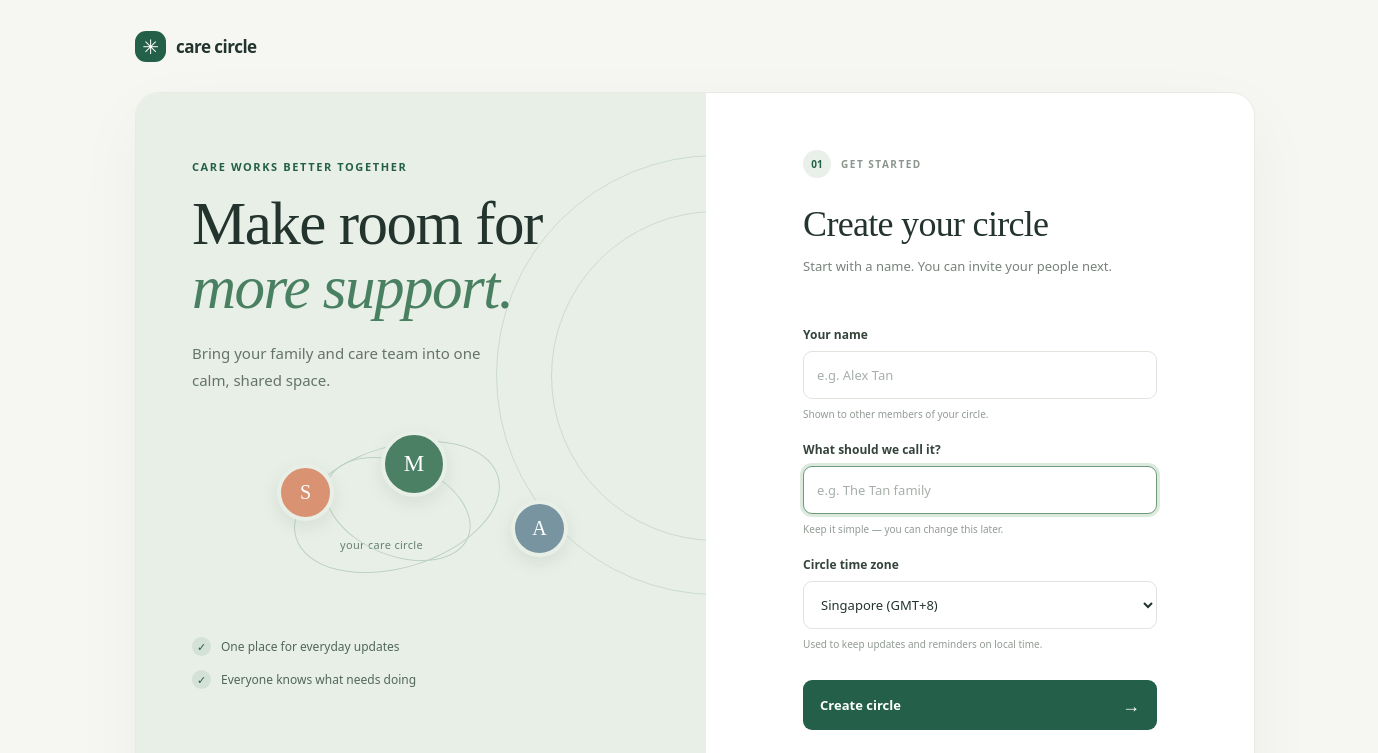
Test: CreateCirclePage › creates a circle and navigates to it
The image size is (1378, 753).
Type "Alex Tan" into the field labelled "Your name" at (980, 375), box [803,351,1157,399]
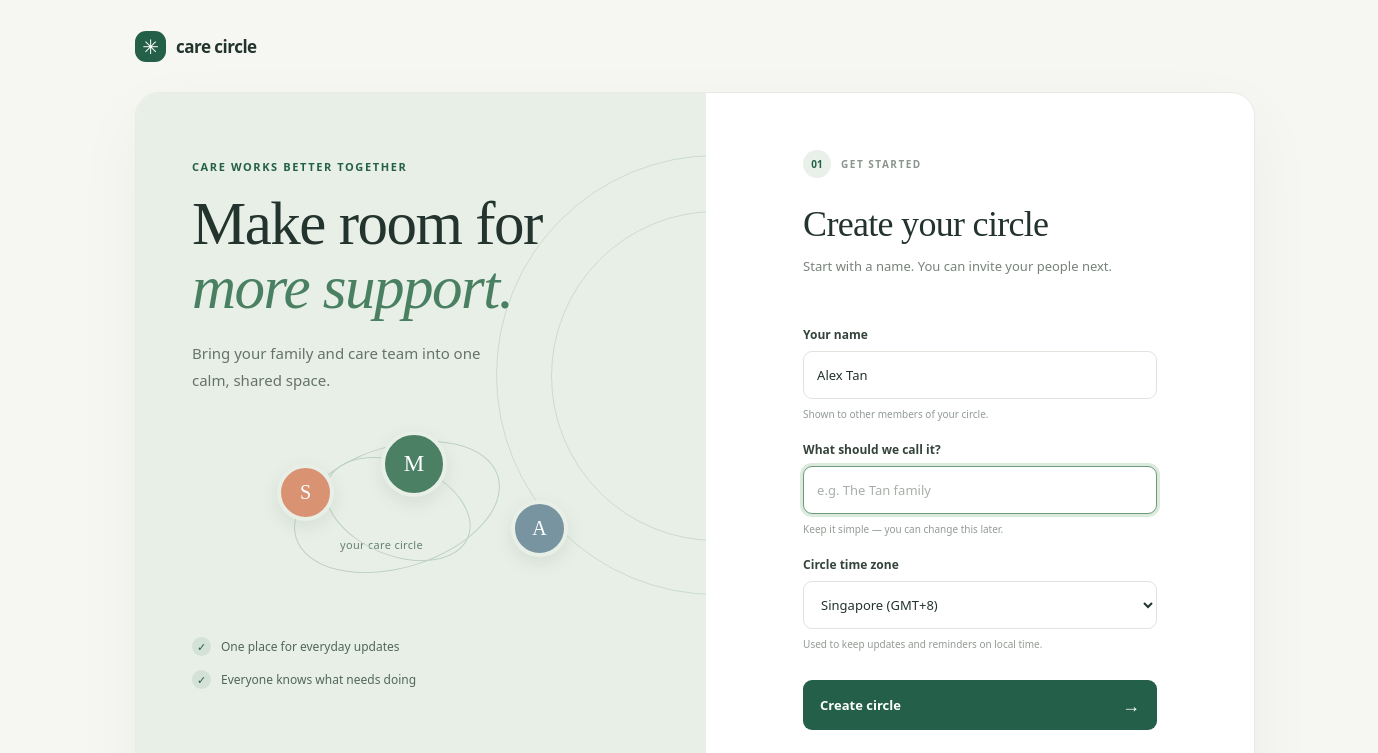
Type "The Tan family" into the field labelled "What should we call it?" at (980, 490), box [803,466,1157,514]
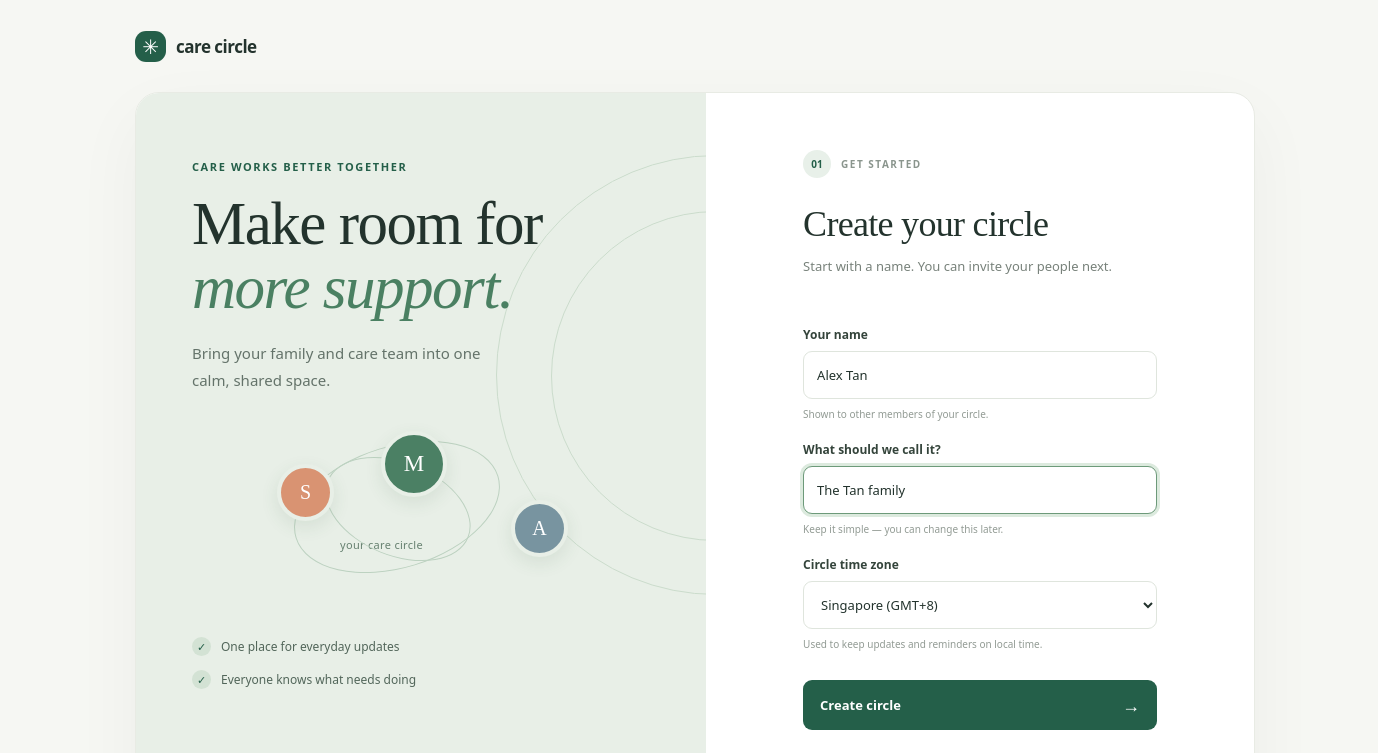
Click the button "Create circle →" at (860, 705), box [803,680,1157,730]
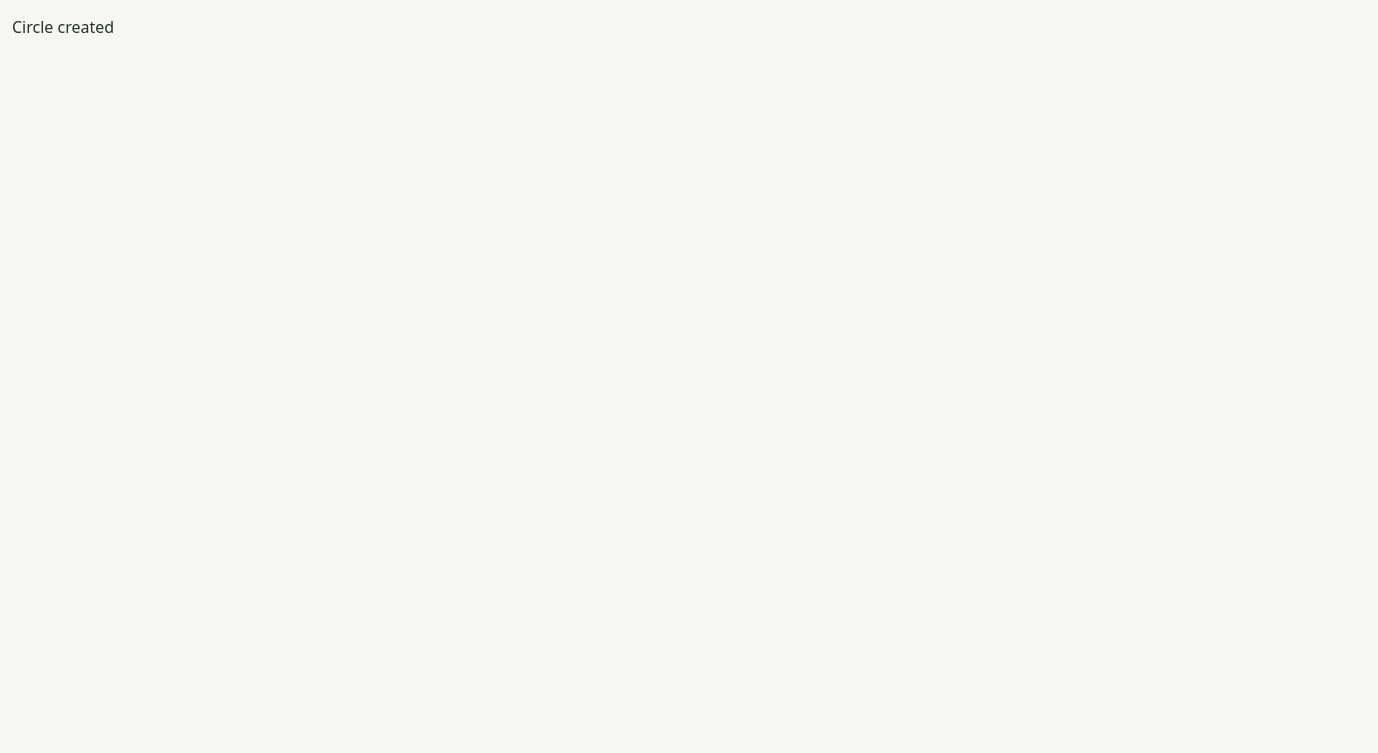
Expected: the text "Circle created" is shown, [12,16,114,38]
